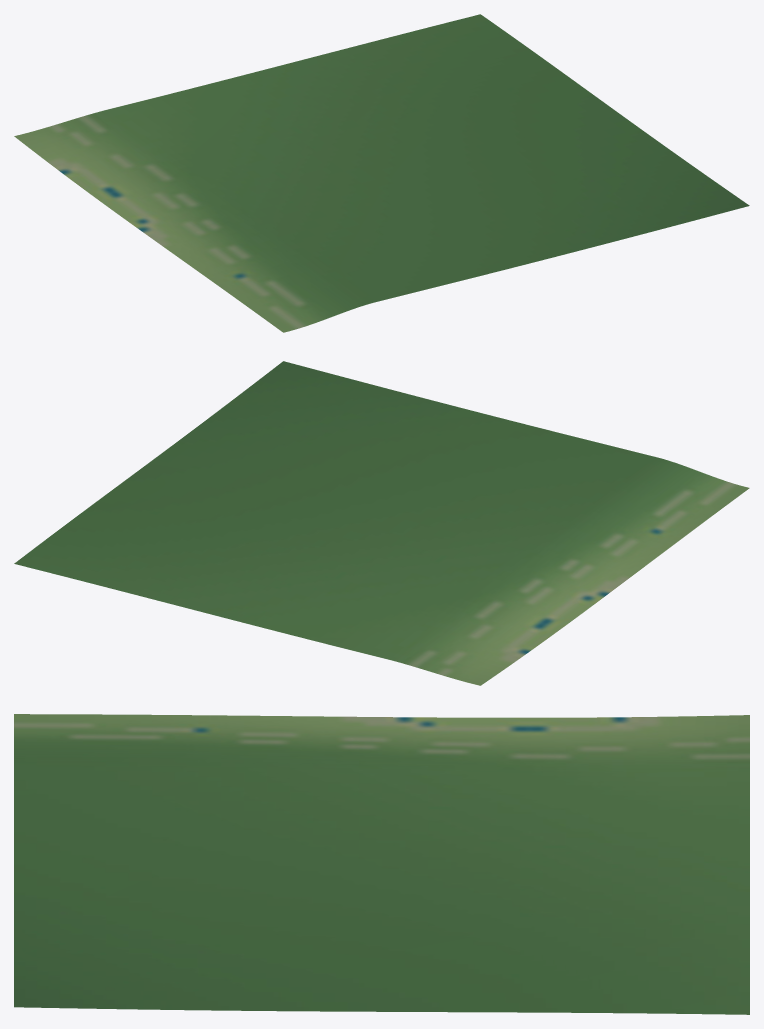
Rendered from terrain_T_E04_S01.glb.
3 views of the same model, one above another, from view 1: azimuth 30°, elevation 25°; view 2: azimuth 150°, elevation 25°; view 3: azimuth 270°, elevation 25° (orthographic). The views are drawn at different scales.
Visible parts, largest first — view 1: Terrain_T_E04_S01; view 2: Terrain_T_E04_S01; view 3: Terrain_T_E04_S01.
Boxes of the visible parts, x1,y1,x2,y2 form: Terrain_T_E04_S01: (14,14,749,332); Terrain_T_E04_S01: (14,361,749,685); Terrain_T_E04_S01: (14,714,749,1014).
Size of the model in its own units: 2000 by 64.55 by 2000.
Materials: 1 (1 with a texture image).
